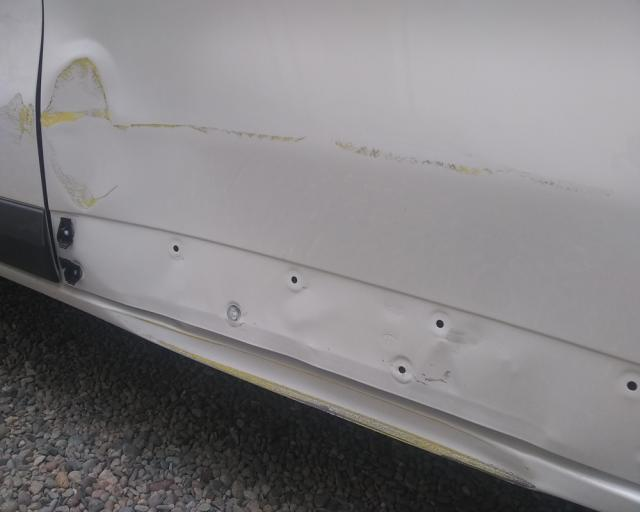dent: (40, 60, 640, 474)
scratch: (0, 92, 34, 139)
